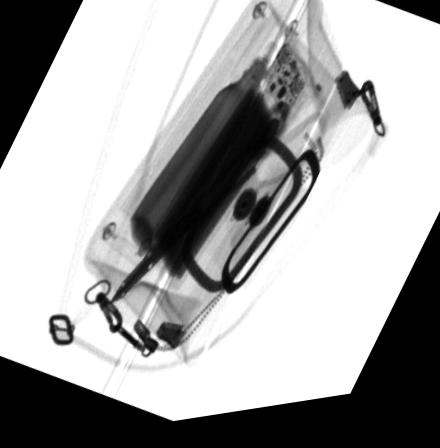Powerbank: (139, 43, 319, 299)
Scissors: (109, 87, 330, 310)
